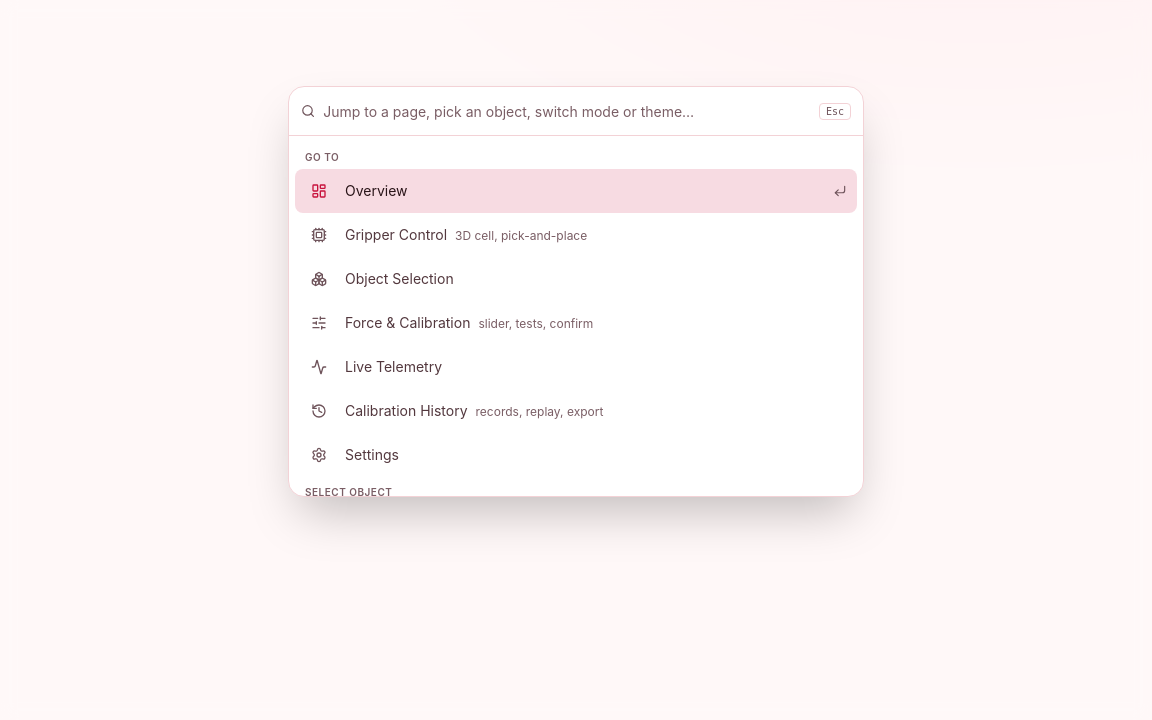
Test: command palette › focuses the input as it opens and starts every opening with an empty query
Later steps or results of the test are not shown.
Step 1. Type "cup" into the dropdown → (567, 111), box [323,87,811,135]
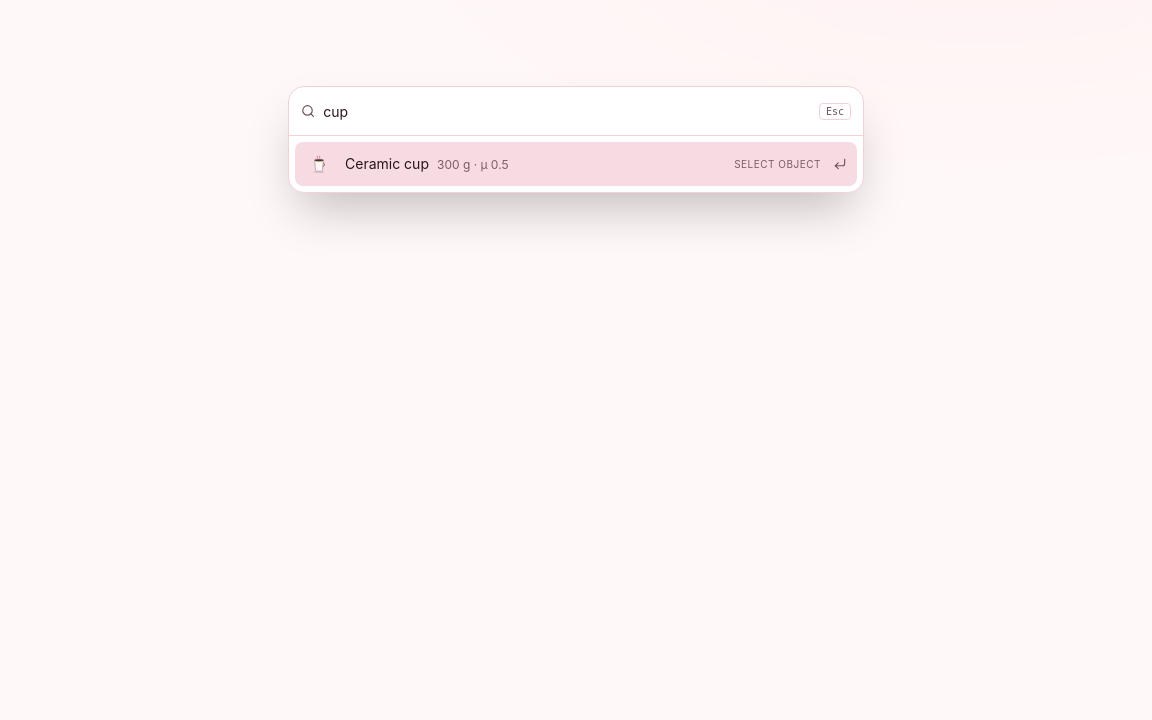
expect the number of options is 1: met, box [295,142,857,186]
